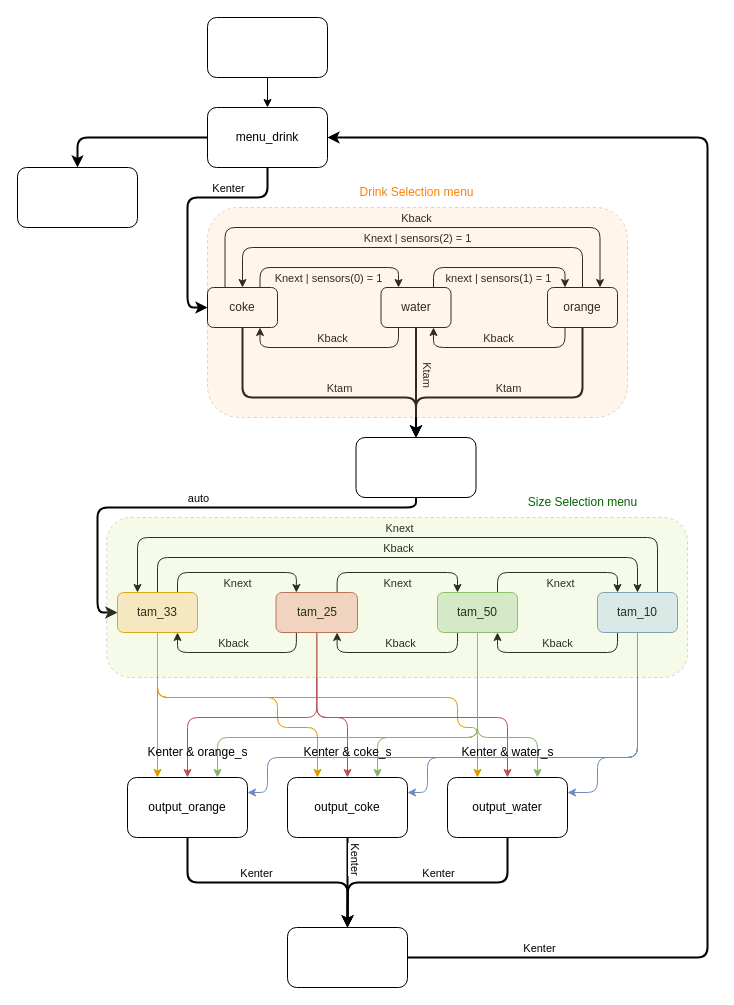
Some shapes in this 734 by 1005 pixel diagram are drawn without their labels. The shapes that lost their labels are listed below. From the top down, each one's centre as x and y in pixels, then its label:
At point (267, 47): "start".
At point (77, 197): "out_of_service".
At point (415, 467): "menu_size".
At point (347, 957): "done".
